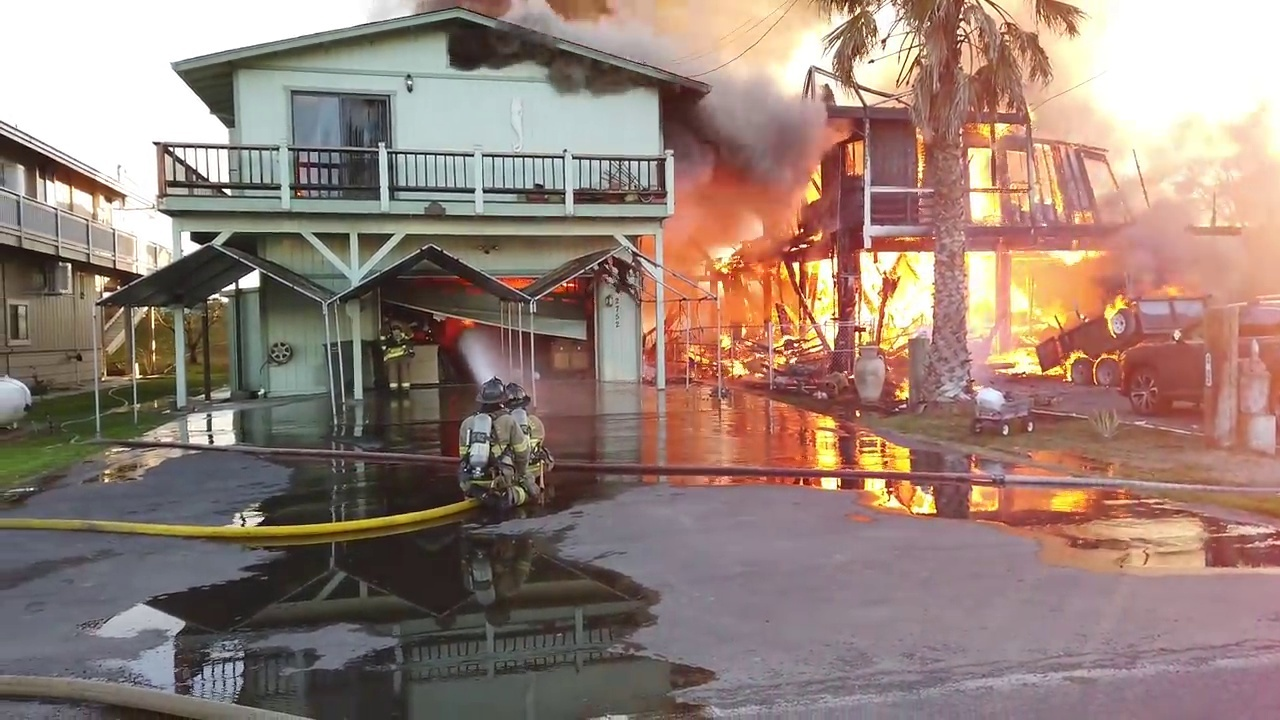fire: (674, 158, 1149, 489), (1078, 2, 1280, 332), (500, 269, 541, 291), (713, 243, 738, 266), (447, 316, 484, 331), (554, 282, 583, 301), (891, 375, 910, 399), (1161, 280, 1184, 295)
smoke: (391, 1, 836, 192), (1104, 69, 1279, 437), (676, 193, 793, 245)
